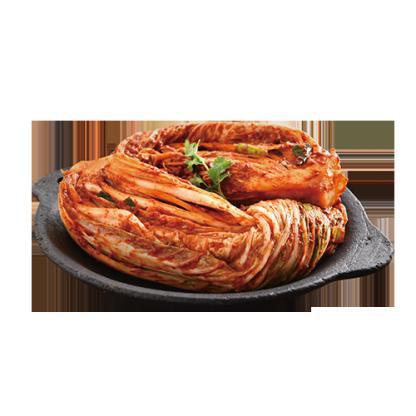kimchi: (60, 112, 358, 296)
